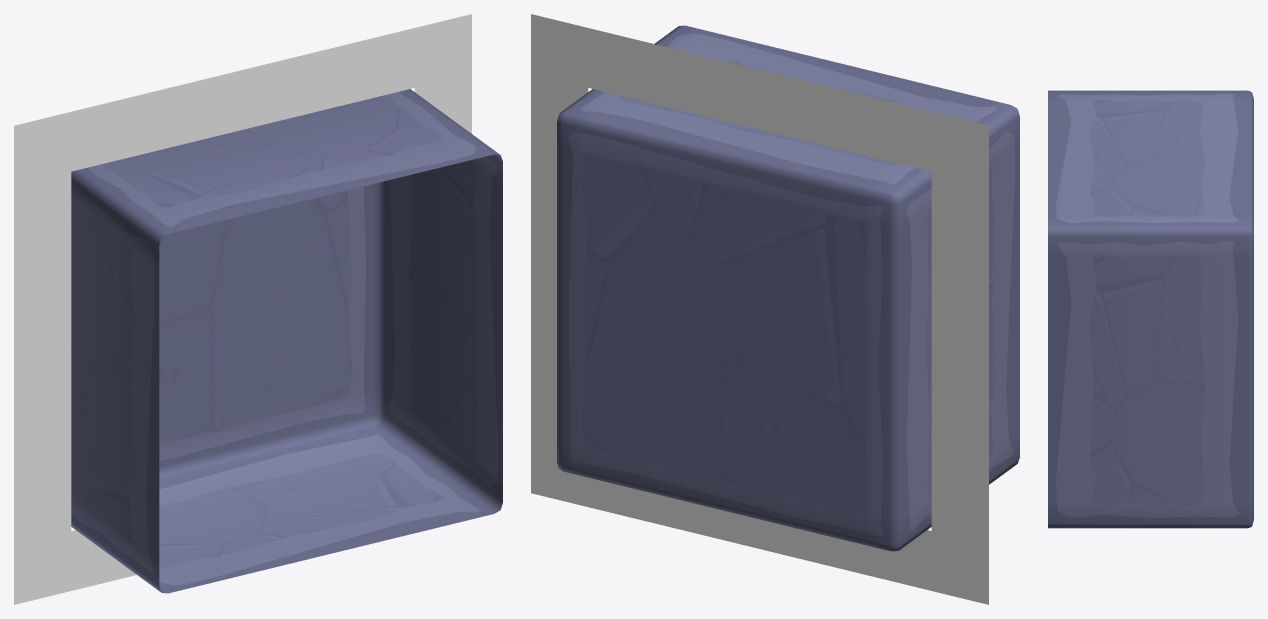
File: SinkBox_8x8.fbx
3 renders of one model, left to right at view 1: azimuth 30°, elevation 25°; view 2: azimuth 150°, elevation 25°; view 3: azimuth 270°, elevation 25°, orthographic. The views are drawn at different scales.
Visible parts, largest first — view 1: Sinking_Platform_6_6, WaterEdge_6_6; view 2: Sinking_Platform_6_6, WaterEdge_6_6; view 3: Sinking_Platform_6_6.
Boxes of the visible parts, left/top/right/bottom form: Sinking_Platform_6_6: left=71, top=89, right=502, bottom=593; WaterEdge_6_6: left=14, top=14, right=471, bottom=604; Sinking_Platform_6_6: left=557, top=25, right=1019, bottom=551; WaterEdge_6_6: left=531, top=14, right=988, bottom=604; Sinking_Platform_6_6: left=1048, top=90, right=1253, bottom=528.
Size of the model in its own units: 1080 by 1080 by 500.
